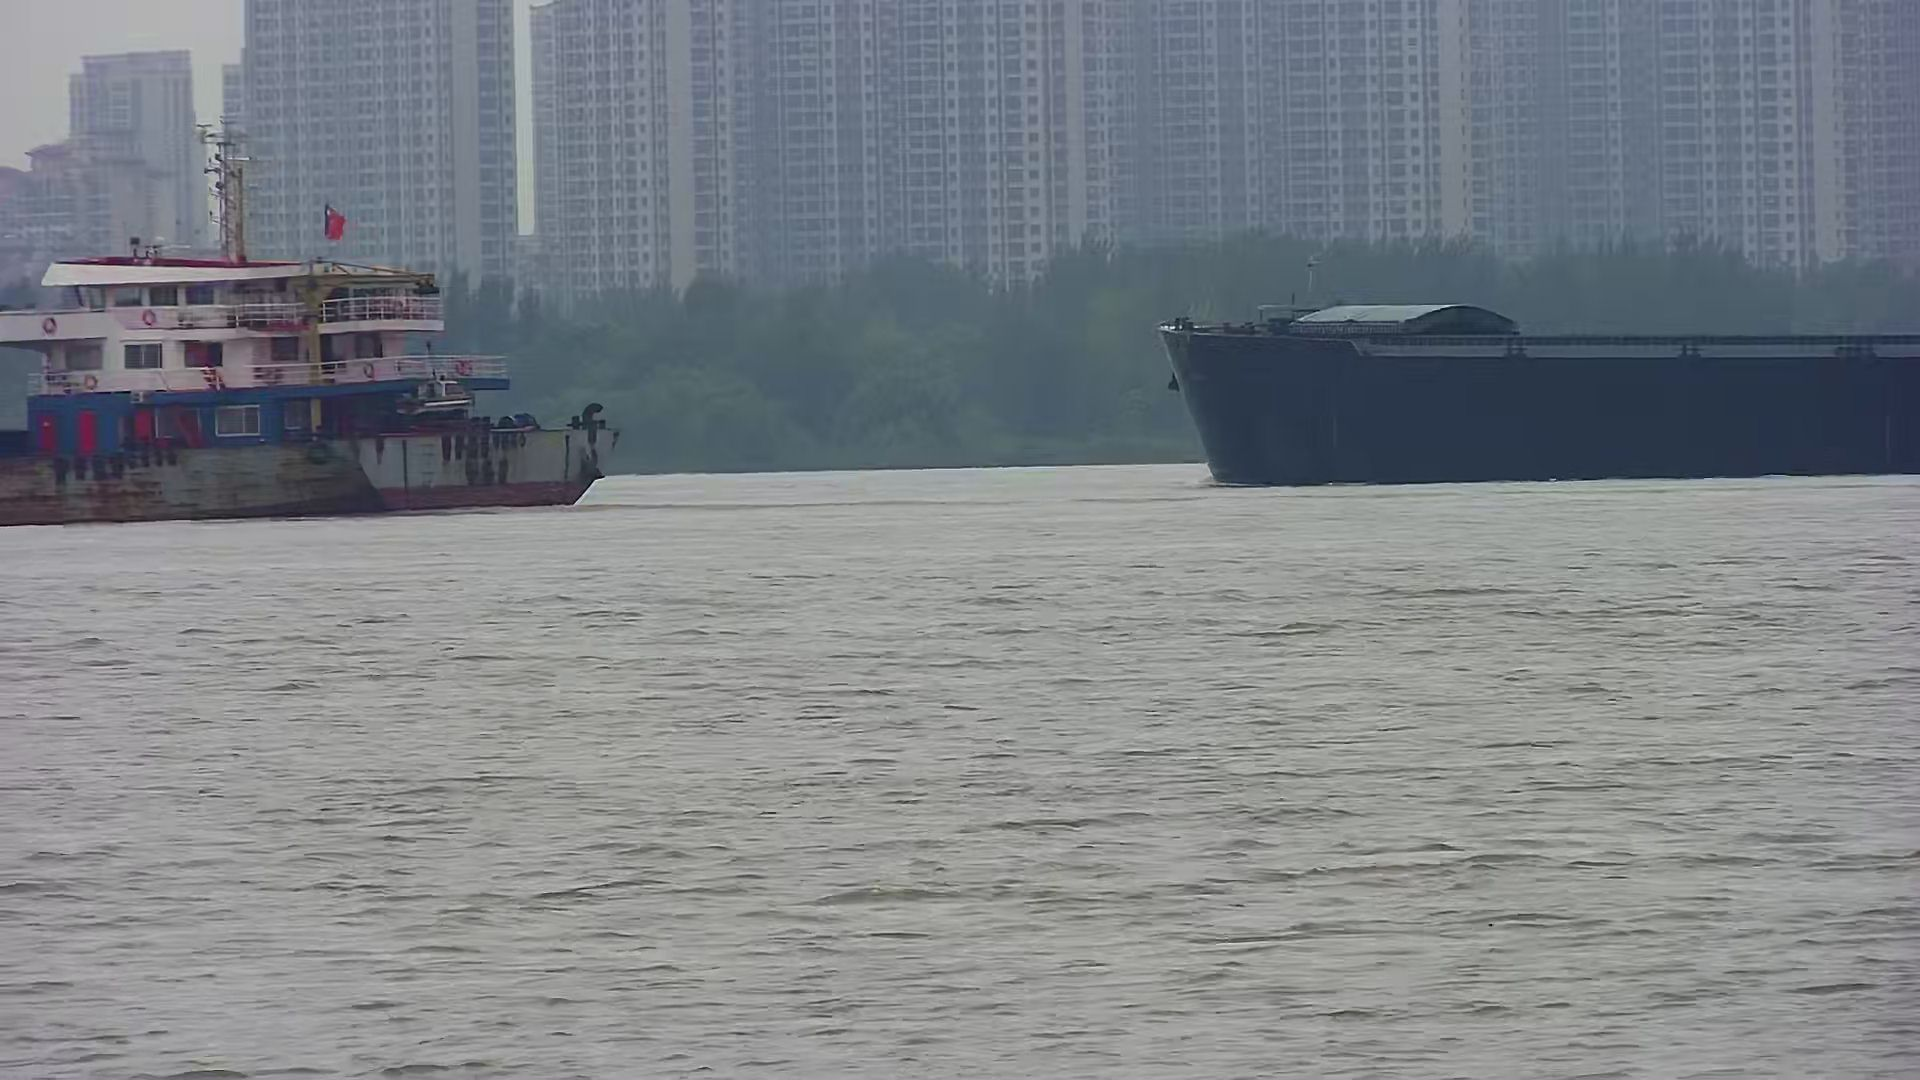ship: (1, 199, 618, 529), (1164, 301, 1920, 491)
